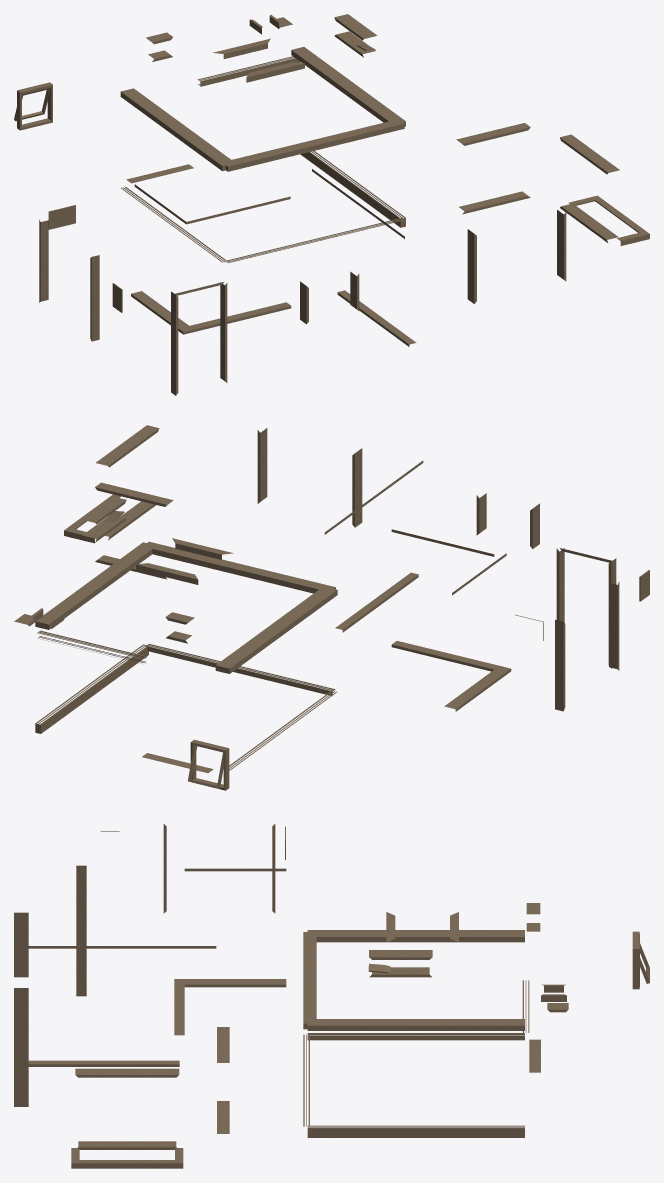
Rendered from kd_stage_135b75_4_14.glb.
3 views of the same model, one above another, from view 1: azimuth 30°, elevation 25°; view 2: azimuth 150°, elevation 25°; view 3: azimuth 270°, elevation 25° (orthographic). The views are drawn at different scales.
Parts seen in each view (by area): view 1: kd_stage_135b75_4_14; view 2: kd_stage_135b75_4_14; view 3: kd_stage_135b75_4_14.
Boxes of the visible parts, x1,y1,x2,y2 form: kd_stage_135b75_4_14: (14, 14, 649, 395); kd_stage_135b75_4_14: (14, 425, 649, 790); kd_stage_135b75_4_14: (14, 824, 649, 1168).
Bounding box in the file's own units: 10.5 × 3.45 × 10.52.
1 material, 1 textured.
